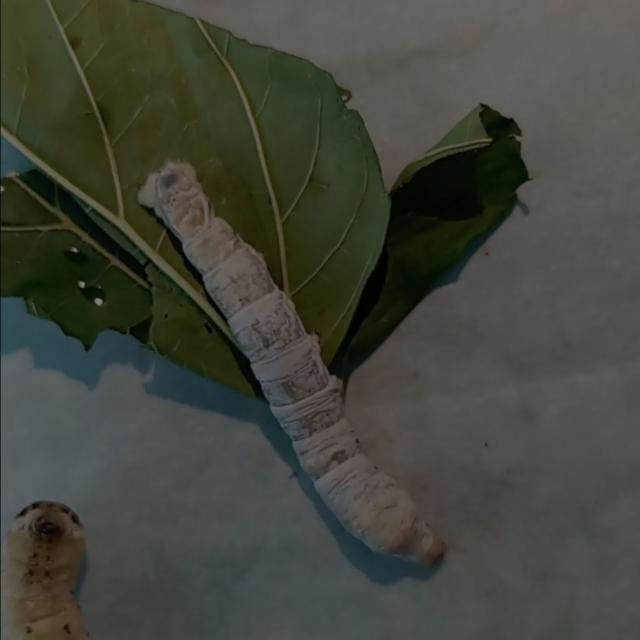Grasserie: (132, 158, 478, 580)
